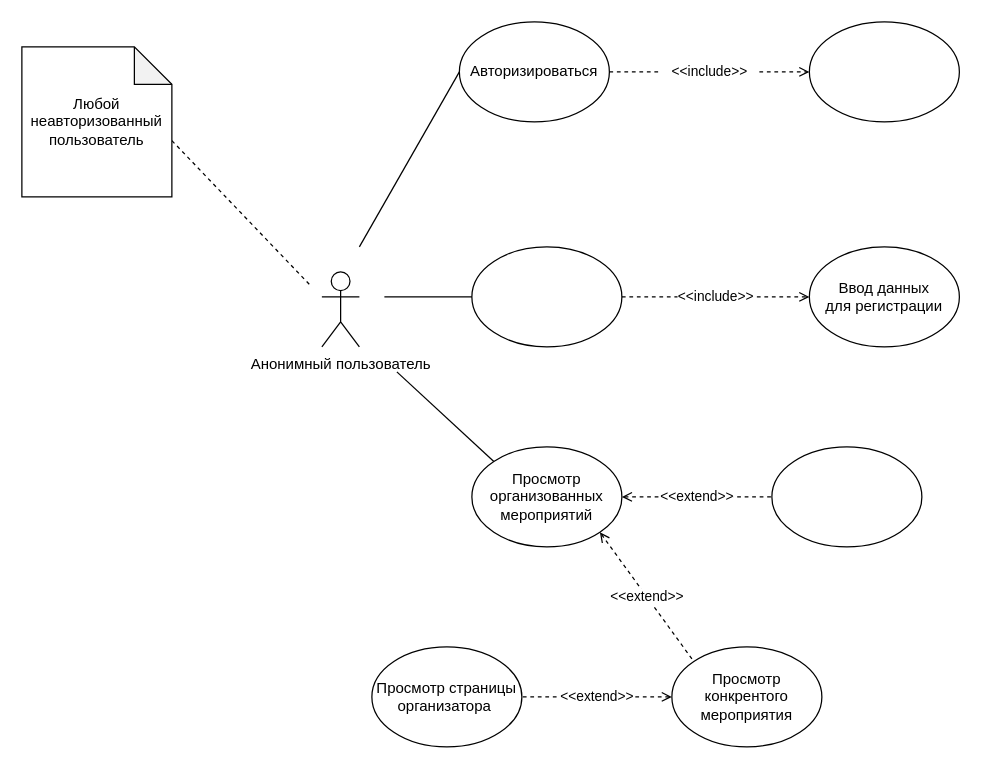
Image size: 981x769. Some labels were removed from this diagram. The box of each missing label's shape, as (x1, y1, x2, y2) in pixels:
Ввод логина и пароля: (808, 21, 959, 122)
Поиск по критериям: (771, 446, 922, 547)
Регистрироваться: (471, 246, 622, 347)
